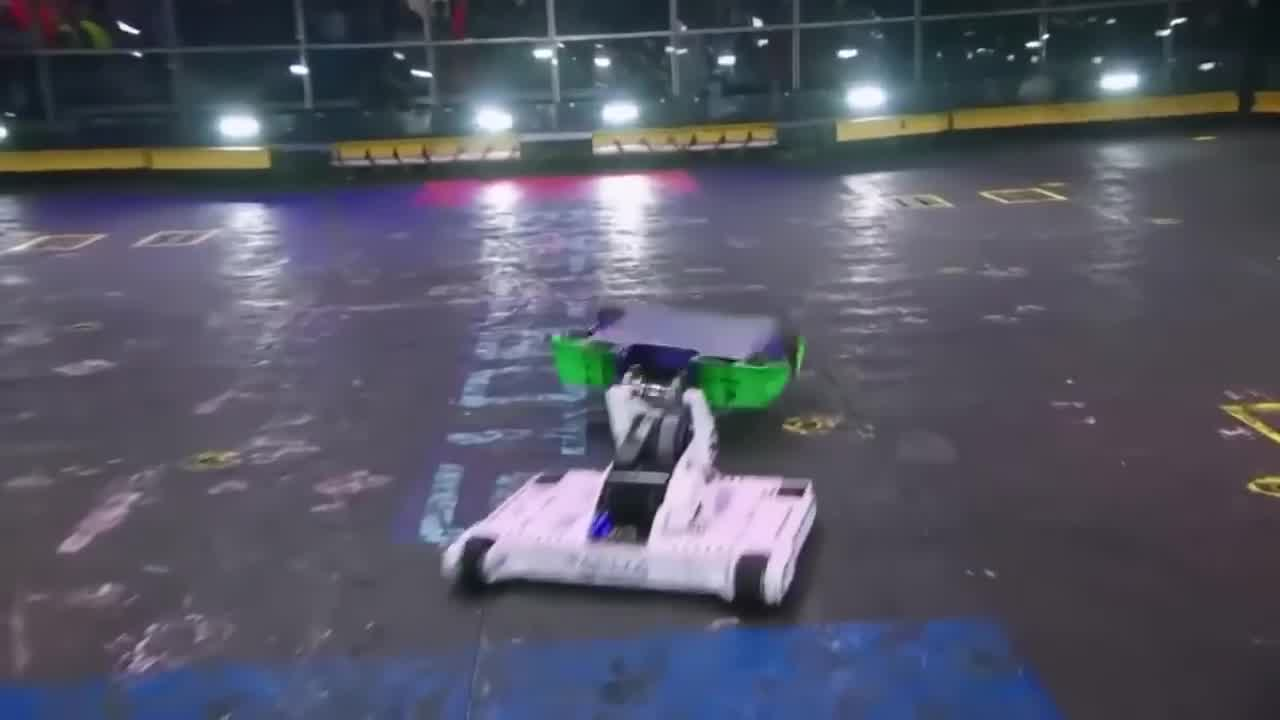combatbot: (438, 377, 821, 612), (547, 295, 808, 406)
